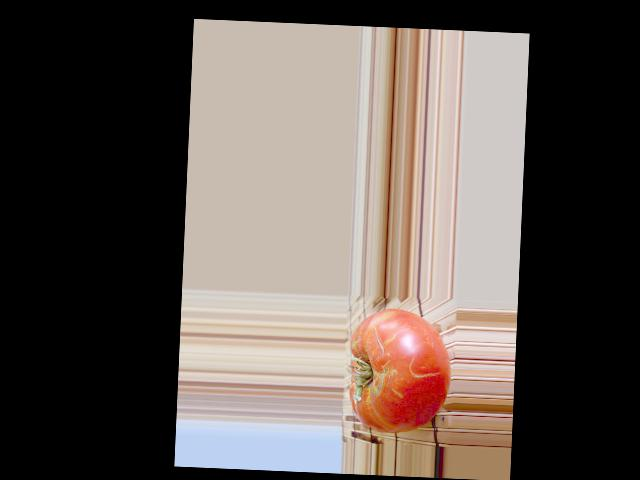tomato: (346, 307, 452, 435)
